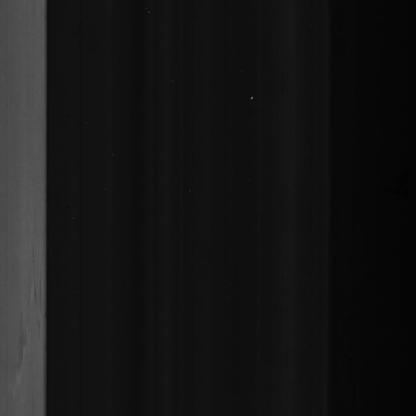silk_spot: (4, 236, 43, 394)
